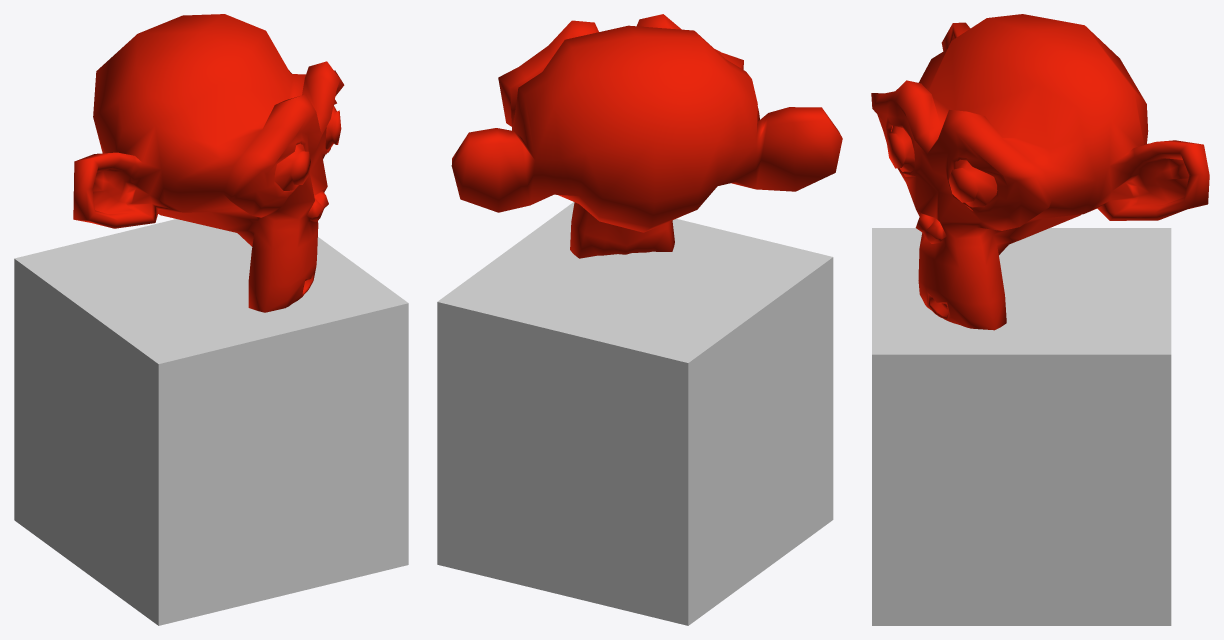
The picture shows the model from 3 angles, left to right: view 1: azimuth 30°, elevation 25°; view 2: azimuth 150°, elevation 25°; view 3: azimuth 270°, elevation 25°; orthographic projection. The views are drawn at different scales.
Visible parts, largest first — view 1: Cube, Suzanne; view 2: Cube, Suzanne; view 3: Cube, Suzanne.
Part boxes in pixels (<box>): Cube: <box>14,219,408,625</box>; Suzanne: <box>73,14,344,312</box>; Cube: <box>437,202,833,625</box>; Suzanne: <box>451,14,842,258</box>; Cube: <box>872,228,1171,625</box>; Suzanne: <box>871,14,1209,330</box>.
Size of the model in its own units: 2.41 by 3.88 by 2.26.
